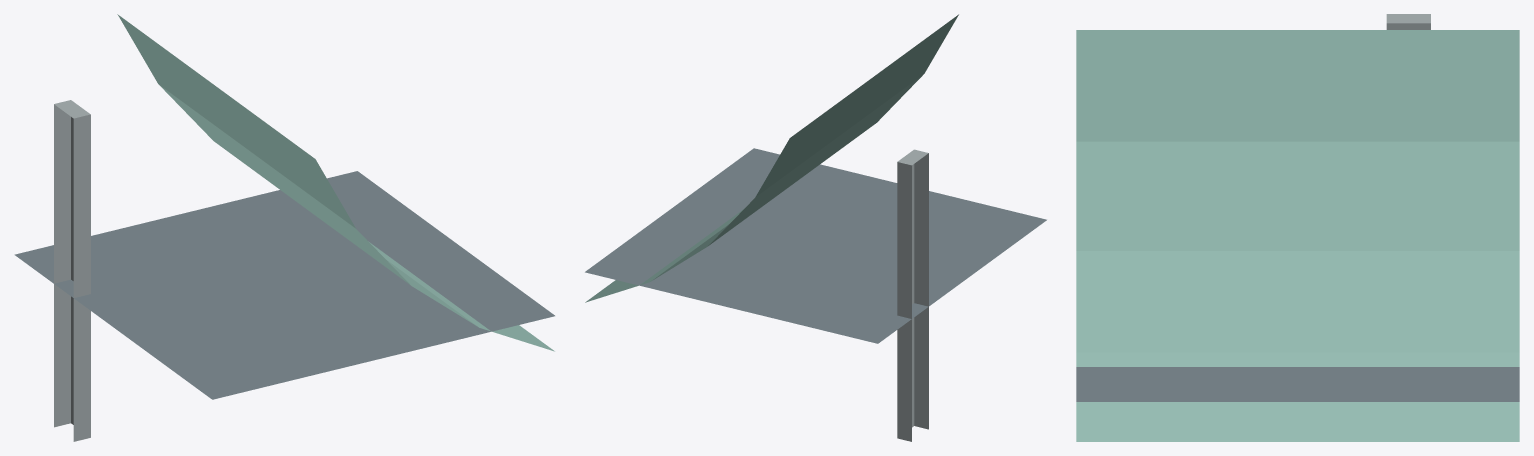
File: cell_76.obj
The picture shows the model from 3 angles, left to right: view 1: azimuth 30°, elevation 25°; view 2: azimuth 150°, elevation 25°; view 3: azimuth 270°, elevation 25°; orthographic projection. The views are drawn at different scales.
Bounding box in the file's own units: 1 × 1 × 1.
